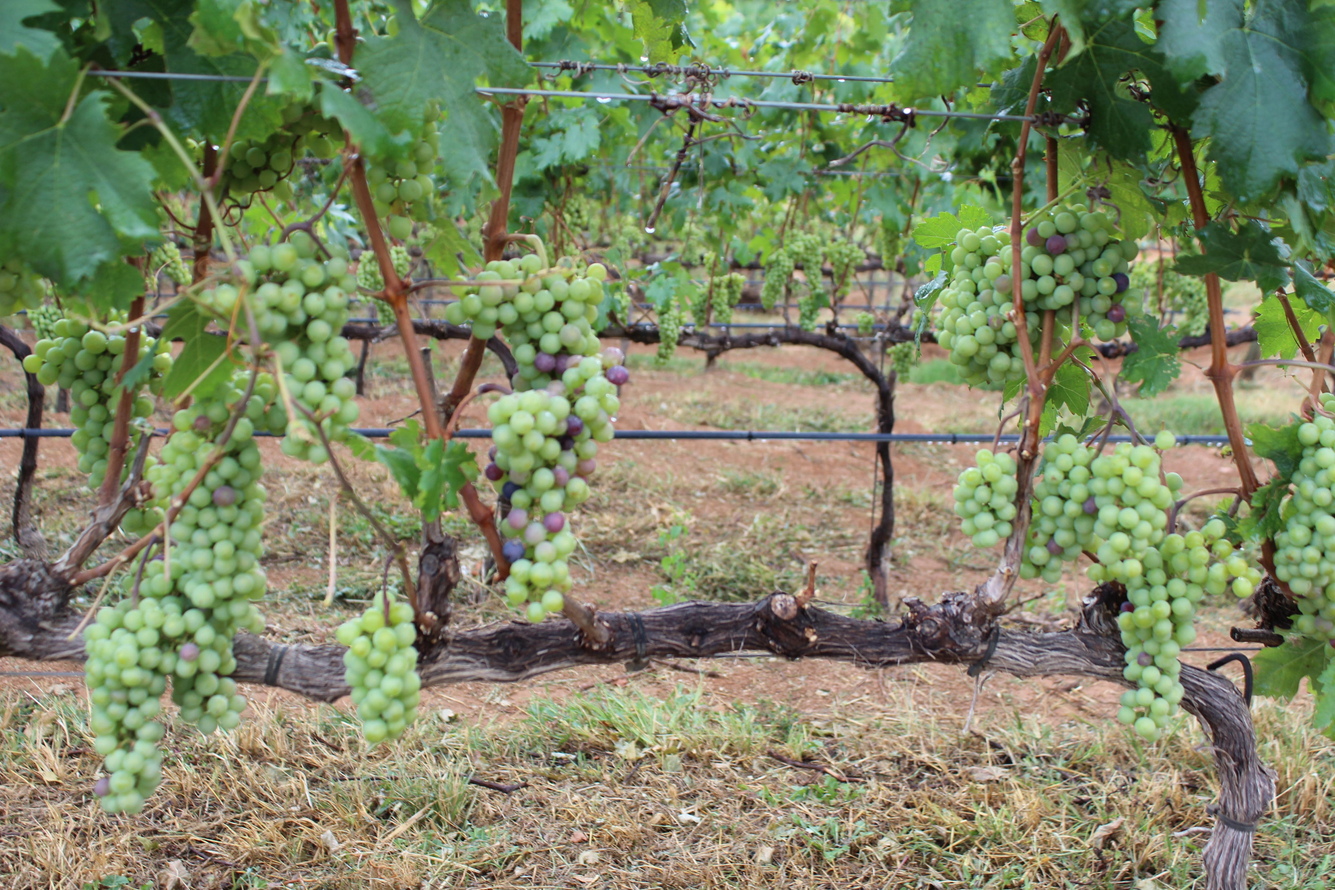leaf: (0, 48, 160, 288), (1162, 0, 1332, 200), (355, 0, 532, 172), (1047, 21, 1195, 160), (892, 0, 1017, 100), (1175, 220, 1289, 292), (1119, 315, 1180, 397), (1252, 636, 1326, 699), (0, 0, 60, 59), (1247, 423, 1303, 479), (1252, 296, 1298, 358), (1291, 262, 1335, 320), (1291, 302, 1323, 343), (1321, 79, 1328, 87), (1309, 335, 1314, 339), (1294, 306, 1298, 311), (442, 140, 446, 143), (1170, 62, 1173, 64), (1327, 75, 1328, 76), (1328, 292, 1329, 293)
